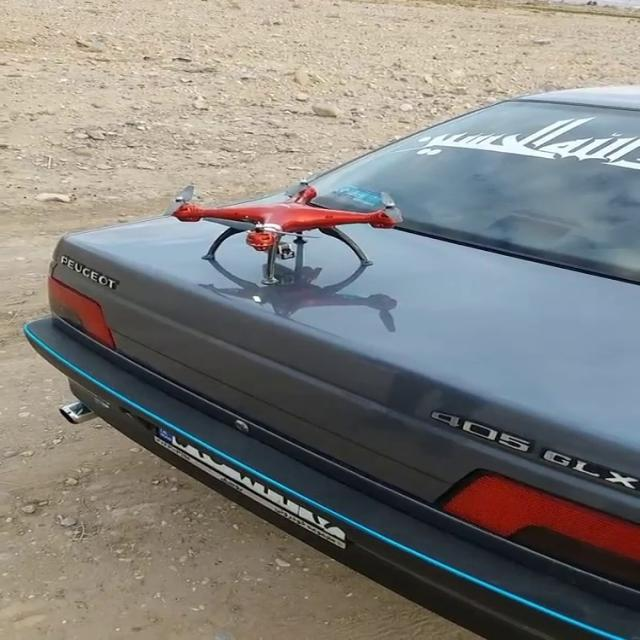drone: (157, 172, 403, 286)
